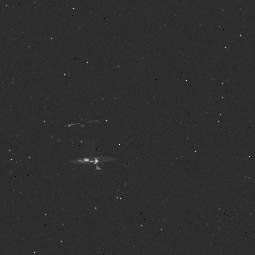proba_3_ocs: (59, 106, 121, 180)
